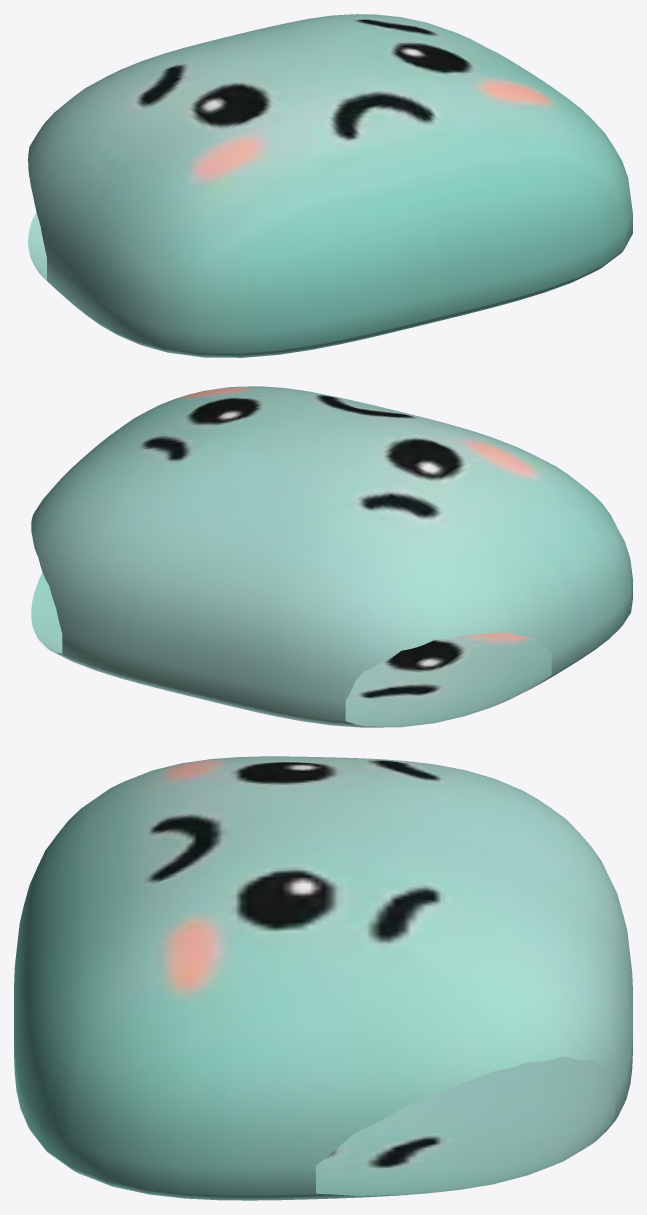
File: T10_MintCyan_SadPuppy.fbx
3 views of the same model, one above another, from view 1: azimuth 30°, elevation 25°; view 2: azimuth 150°, elevation 25°; view 3: azimuth 270°, elevation 25° (orthographic). The views are drawn at different scales.
Parts seen in each view (by area): view 1: Catalog_T10_MintCyan_SadPuppy; view 2: Catalog_T10_MintCyan_SadPuppy; view 3: Catalog_T10_MintCyan_SadPuppy.
Boxes of the visible parts, x1=… form: Catalog_T10_MintCyan_SadPuppy: x1=28, y1=14, x2=632, y2=357; Catalog_T10_MintCyan_SadPuppy: x1=31, y1=386, x2=632, y2=727; Catalog_T10_MintCyan_SadPuppy: x1=14, y1=756, x2=632, y2=1200.
Bounding box in the file's own units: 2.06 × 0.8186 × 1.68.
1 material, 1 textured.
